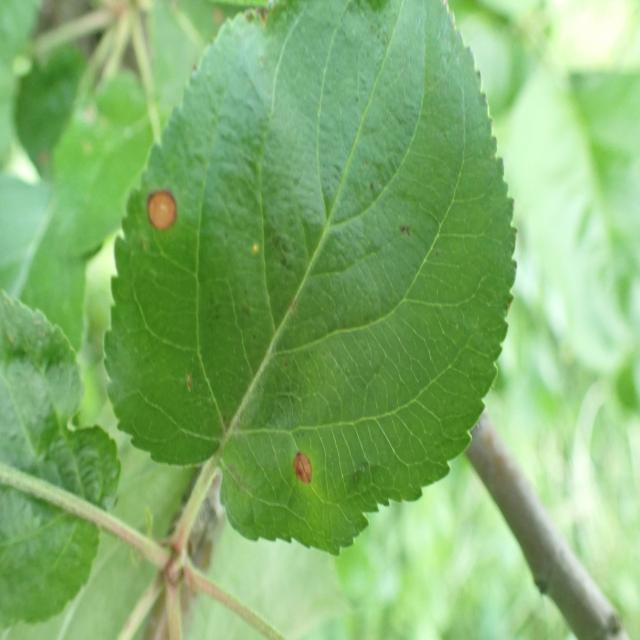Black Rot: (142, 161, 194, 253), (275, 436, 338, 506)
